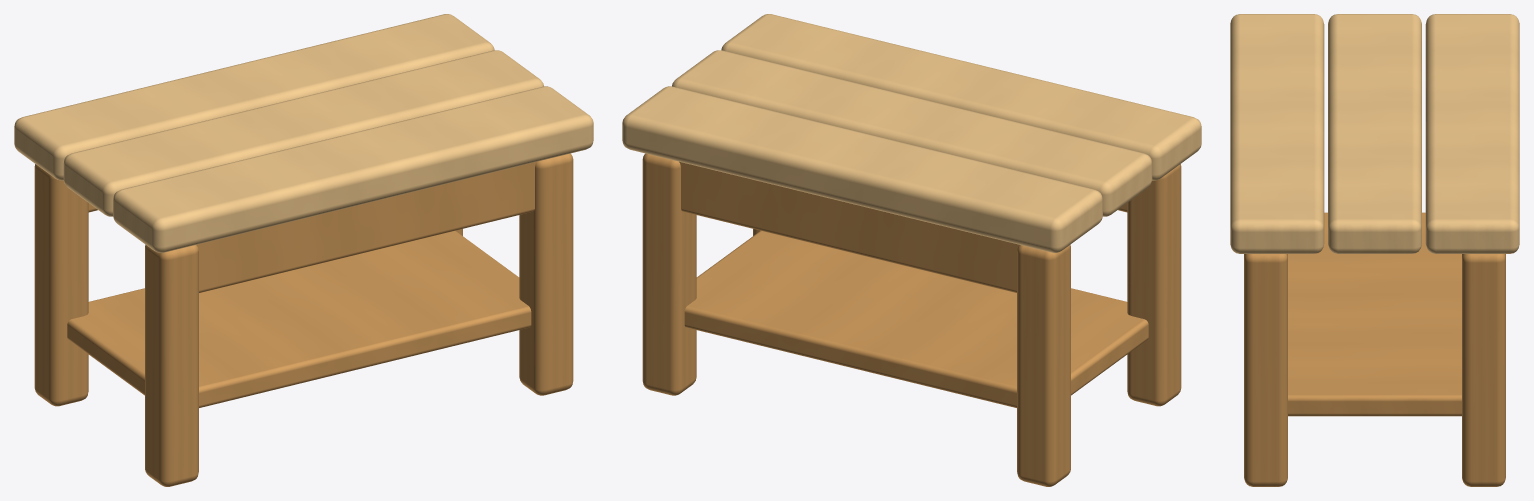
Rendered from TABLE.glb.
3 views of the same model, side by side, from view 1: azimuth 30°, elevation 25°; view 2: azimuth 150°, elevation 25°; view 3: azimuth 270°, elevation 25° (orthographic).
Visible parts, largest first — view 1: TABLE; view 2: TABLE; view 3: TABLE.
Part boxes in pixels (x1,y1,x2,y2): TABLE: (14, 14, 593, 486); TABLE: (622, 14, 1201, 486); TABLE: (1230, 14, 1519, 486).
Bounding box in the file's own units: 1.2 × 0.72 × 0.691.
Materials: 2 (2 with a texture image).
